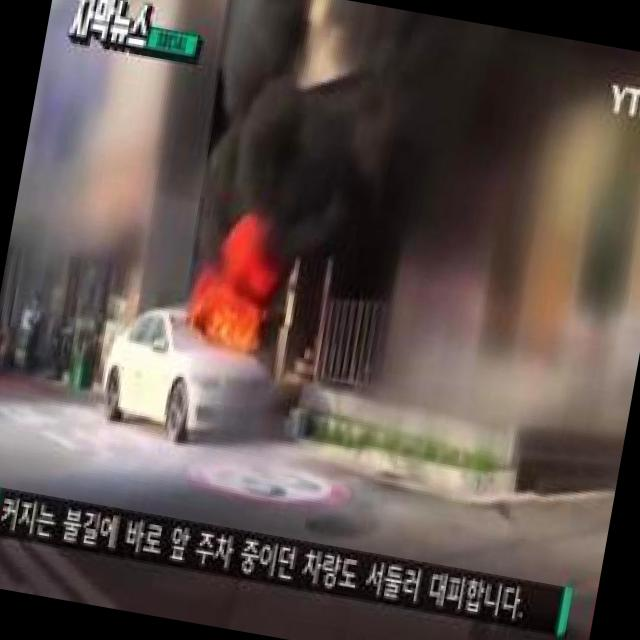Fire: (174, 190, 293, 364)
Smoke: (189, 0, 410, 253)
